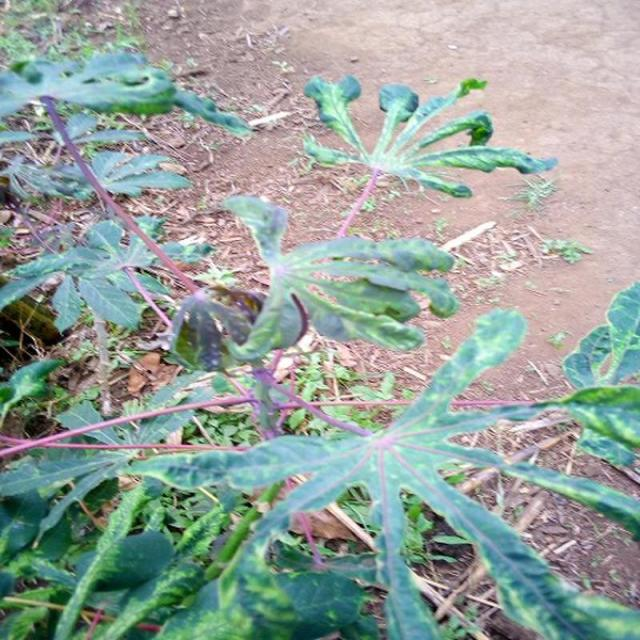cassava leaf: (0, 49, 638, 638), (220, 192, 460, 364)
